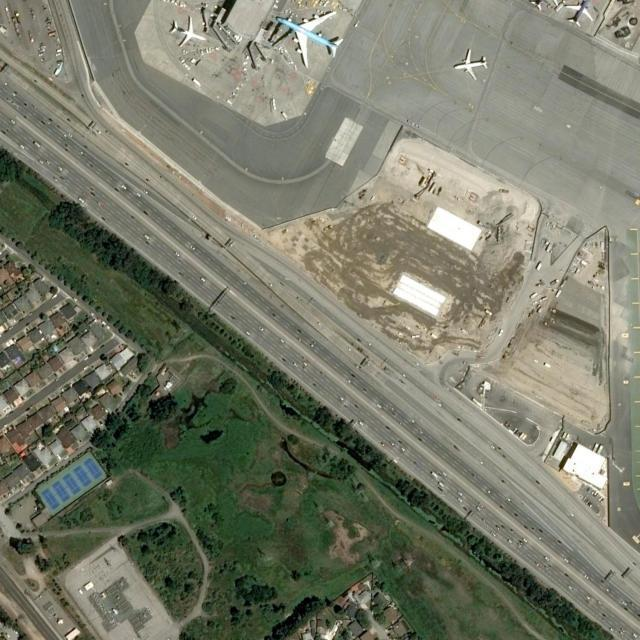Aircraft: (274, 8, 340, 64), (170, 14, 204, 46), (455, 48, 487, 76), (563, 0, 594, 24), (531, 0, 556, 11)
